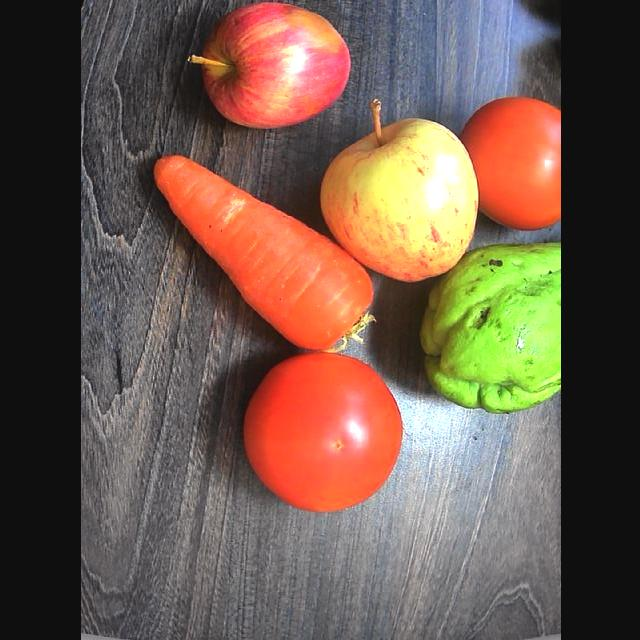chayote: (420, 244, 560, 414)
manzana: (320, 100, 478, 281), (188, 3, 349, 128)
tomate: (243, 354, 400, 512), (459, 98, 560, 230)
zanahoria: (154, 156, 372, 350)
